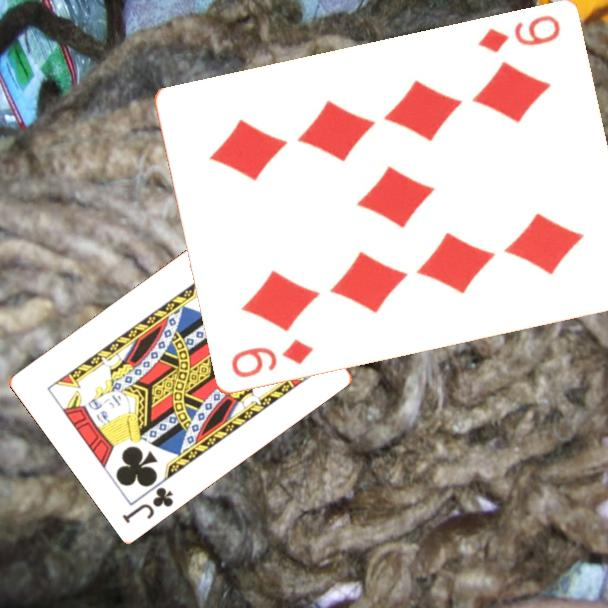c11: (118, 483, 177, 526)
d09: (227, 336, 315, 382), (474, 12, 563, 56)
